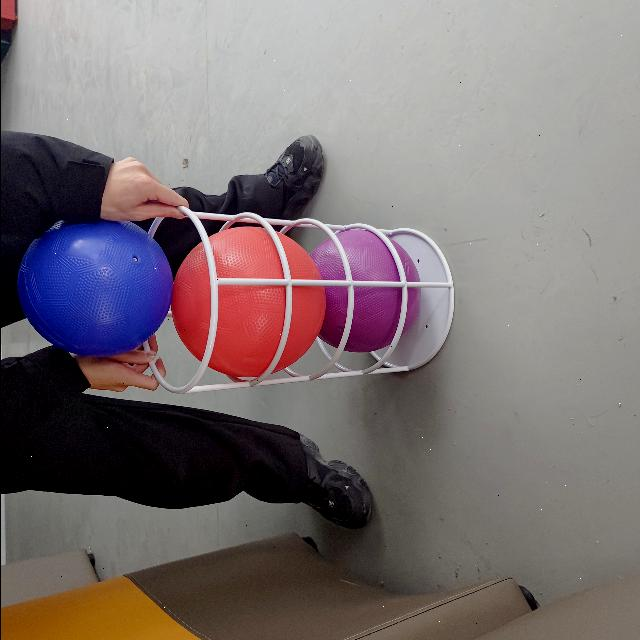B: (7, 222, 170, 362)
P: (315, 224, 417, 354)
R: (174, 226, 320, 382)
S: (155, 212, 445, 392)
